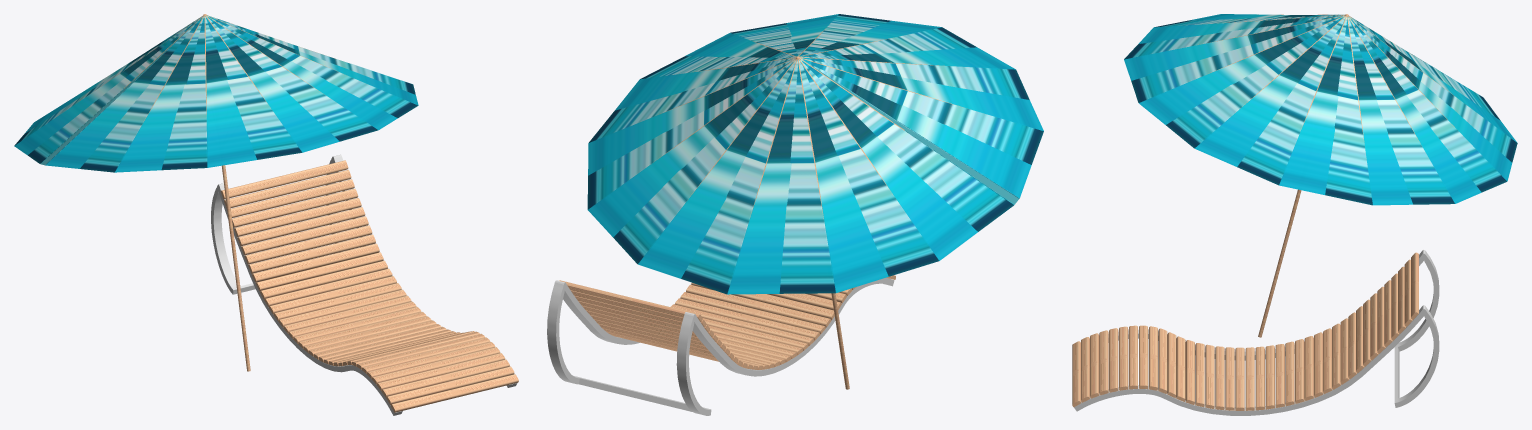
File: beach_chair-transformed.glb
3 views of the same model, side by side, from view 1: azimuth 30°, elevation 25°; view 2: azimuth 150°, elevation 25°; view 3: azimuth 270°, elevation 25° (orthographic). The views are drawn at different scales.
Parts seen in each view (by area): view 1: Cube.003_6, Cube_1, Cube.002_2, Circle_3, Cube.001_5; view 2: Cube.003_6, Cube_1, Cube.002_2, Cube.001_5, Circle_3; view 3: Cube.003_6, Cube_1, Cube.002_2, Cube.001_5, Circle_3.
Part boxes in pixels (x1,y1,x2,y2): Cube.003_6: (14,15,418,172); Cube_1: (220,160,518,412); Cube.002_2: (211,154,517,415); Circle_3: (203,14,250,371); Cube.001_5: (95,15,332,124); Cube.003_6: (587,14,1043,294); Cube_1: (559,275,895,369); Cube.002_2: (547,278,894,415); Cube.001_5: (653,28,963,218); Circle_3: (796,56,849,389); Cube.003_6: (1124,14,1517,205); Cube_1: (1072,252,1418,410); Cube.002_2: (1074,250,1439,415); Cube.001_5: (1205,14,1454,145); Circle_3: (1258,14,1348,337).
Size of the model in its own units: 2.21 by 1.95 by 2.43.
3 materials, 2 textured.
